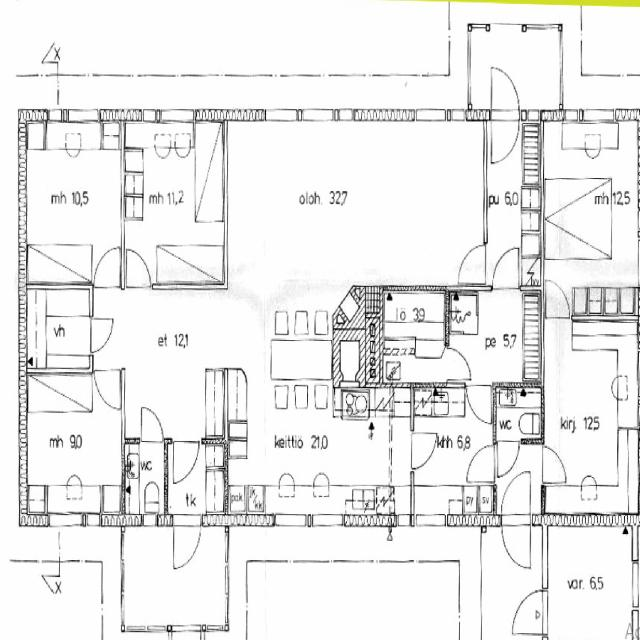door: (502, 514, 531, 570), (502, 470, 531, 526), (492, 67, 520, 121), (492, 110, 520, 164), (514, 591, 549, 634), (174, 514, 201, 567), (493, 246, 519, 291), (458, 245, 488, 284), (94, 368, 120, 412), (466, 382, 492, 426), (94, 245, 120, 288), (173, 439, 199, 482), (126, 245, 151, 288), (469, 446, 497, 482), (546, 279, 570, 320), (541, 448, 569, 482), (411, 433, 438, 468), (89, 319, 116, 353), (142, 406, 164, 444), (498, 439, 520, 476), (447, 348, 471, 379), (172, 626, 201, 640)
